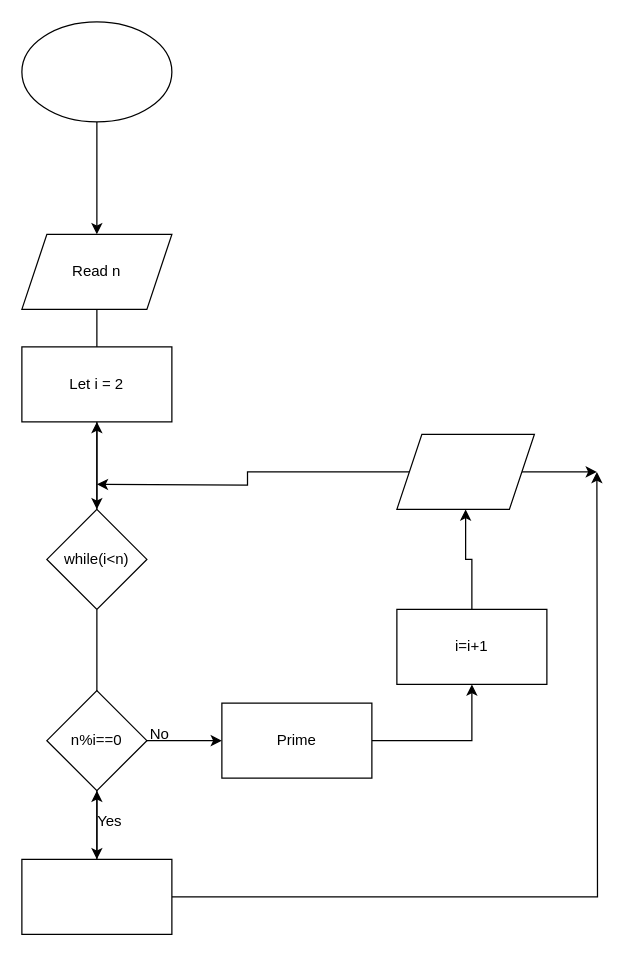
The diagram is 630 pixels wide and 956 high, and some of its shapes have lost their labels. Each missing label, with the centre of its shape:
"END" goes at pixel 465 471.
"Not Prime (as prime means a number divisible by 1 and itself)" goes at pixel 96 896.
"Start" goes at pixel 96 71.
